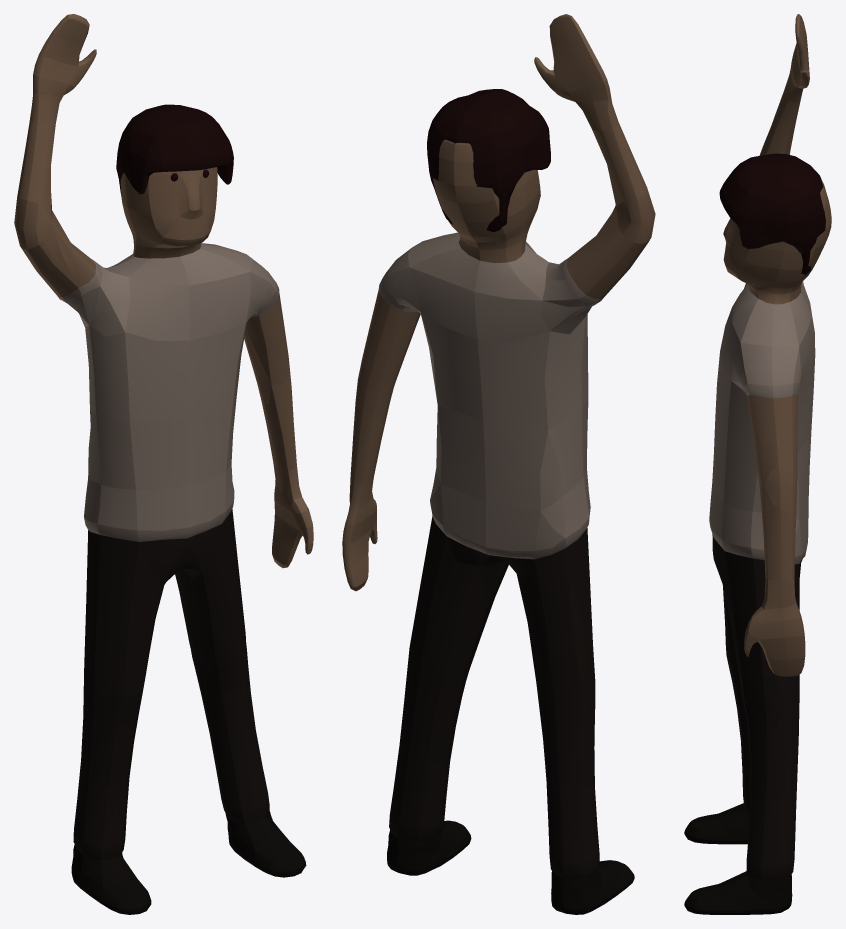
File: pessoa_h_acenando.glb
3 renders of one model, left to right at view 1: azimuth 30°, elevation 25°; view 2: azimuth 150°, elevation 25°; view 3: azimuth 270°, elevation 25°, orthographic. The views are drawn at different scales.
Parts seen in each view (by area): view 1: pessoa_h_acenando; view 2: pessoa_h_acenando; view 3: pessoa_h_acenando.
Boxes of the visible parts, box(x1,y1,x2,y2) form: pessoa_h_acenando: box(14, 14, 313, 914); pessoa_h_acenando: box(342, 14, 655, 914); pessoa_h_acenando: box(684, 14, 831, 914).
Bounding box in the file's own units: 0.7018 × 2.03 × 0.3327.
1 material, 1 textured.
